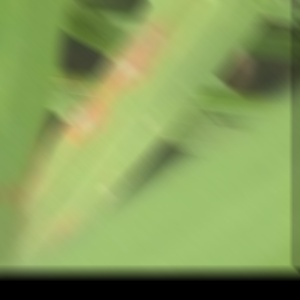Brown_Spot: (103, 14, 176, 90), (59, 98, 111, 143)
